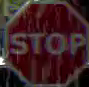Stop: (4, 1, 88, 86)
